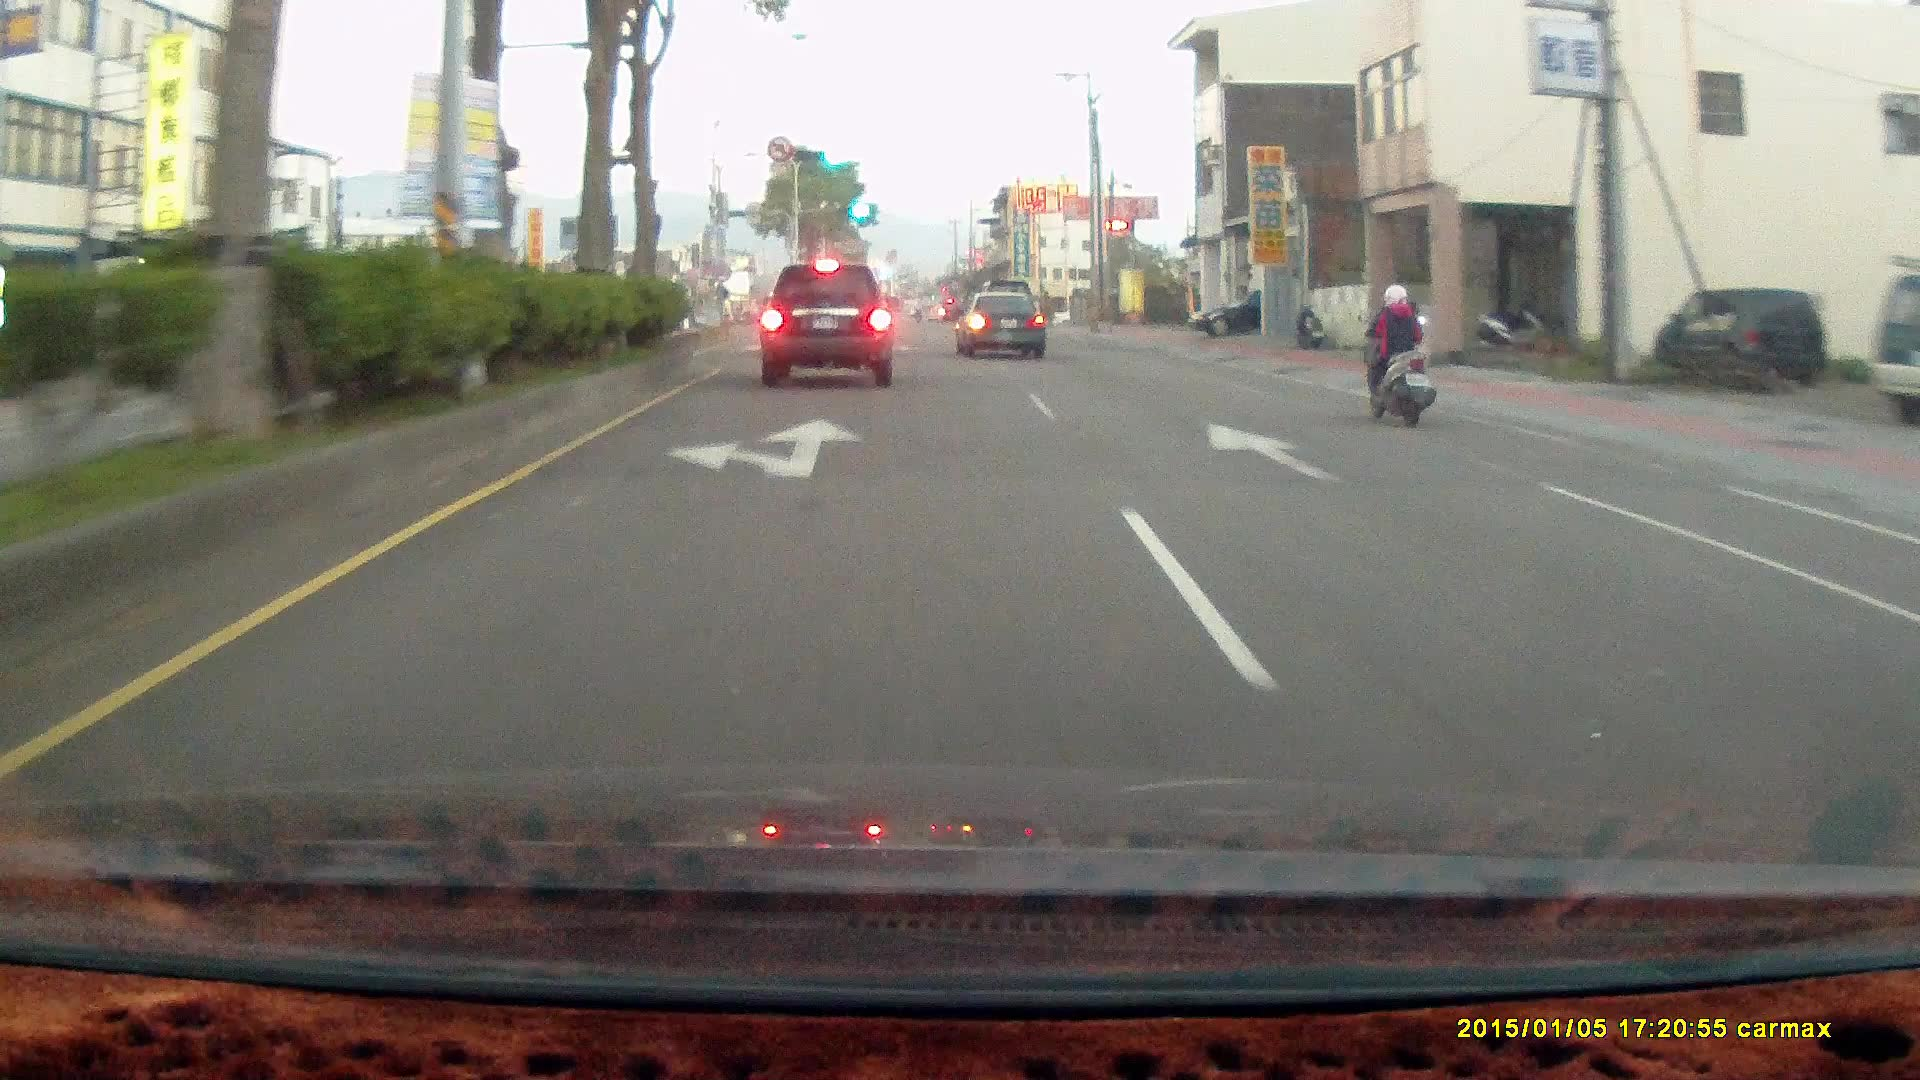rider: (1346, 269, 1451, 436), (1358, 283, 1436, 429)
vehicle: (1652, 282, 1830, 385), (761, 259, 898, 385), (760, 261, 899, 385), (1652, 287, 1826, 387), (1870, 272, 1920, 420), (954, 289, 1051, 360), (1189, 285, 1322, 336), (953, 292, 1044, 358), (1189, 287, 1265, 338)
